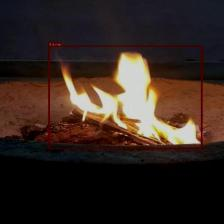fire: (48, 46, 202, 148)
